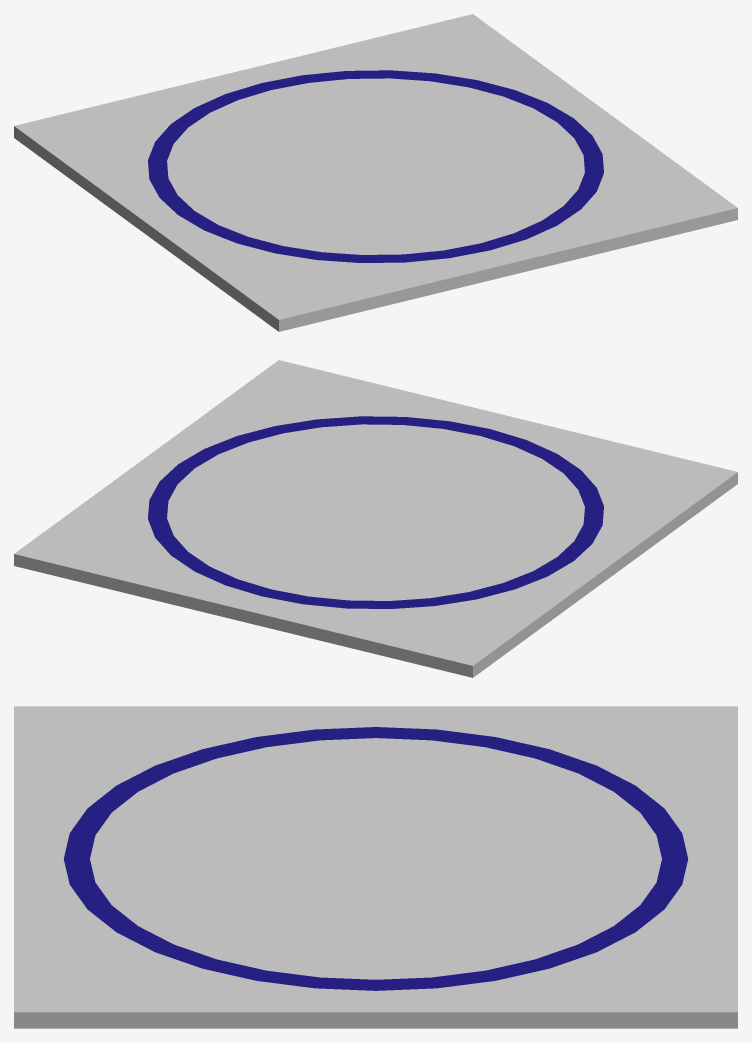
The model's file is NCCCO_plane_blue.dae.
The picture shows the model from 3 angles, top to bottom: view 1: azimuth 30°, elevation 25°; view 2: azimuth 150°, elevation 25°; view 3: azimuth 270°, elevation 25°; orthographic projection. The views are drawn at different scales.
Visible parts, largest first — view 1: Plane; view 2: Plane; view 3: Plane.
Part boxes in pixels (bbox=[...]): Plane: bbox=[14, 14, 737, 331]; Plane: bbox=[14, 360, 737, 677]; Plane: bbox=[14, 706, 737, 1028].
Bounding box in the file's own units: 2 × 2 × 0.0511.
